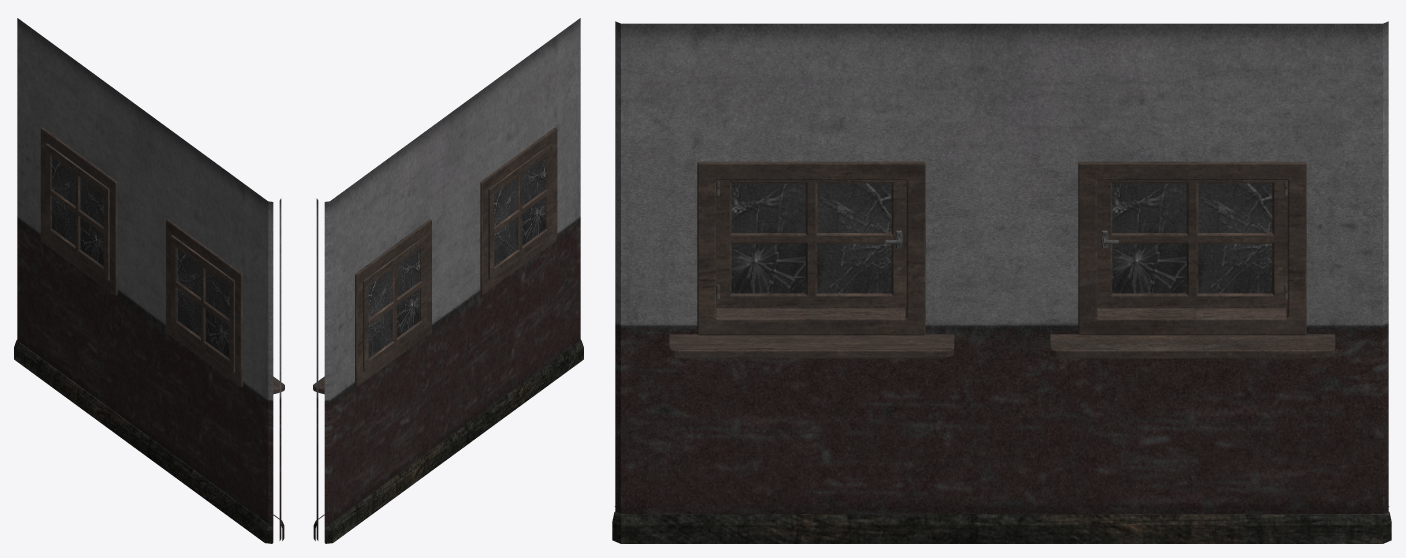
3 views of the same model, side by side, from view 1: azimuth 30°, elevation 25°; view 2: azimuth 150°, elevation 25°; view 3: azimuth 270°, elevation 25° (orthographic). The views are drawn at different scales.
Parts seen in each view (by area): view 1: window_1_double; view 2: window_1_double; view 3: window_1_double.
Part boxes in pixels (<box>): window_1_double: <box>14,18,284,543</box>; window_1_double: <box>313,18,583,543</box>; window_1_double: <box>612,21,1391,543</box>.
Size of the model in its own units: 0.35 by 3 by 4.09.
Materials: 8 (8 with a texture image).
